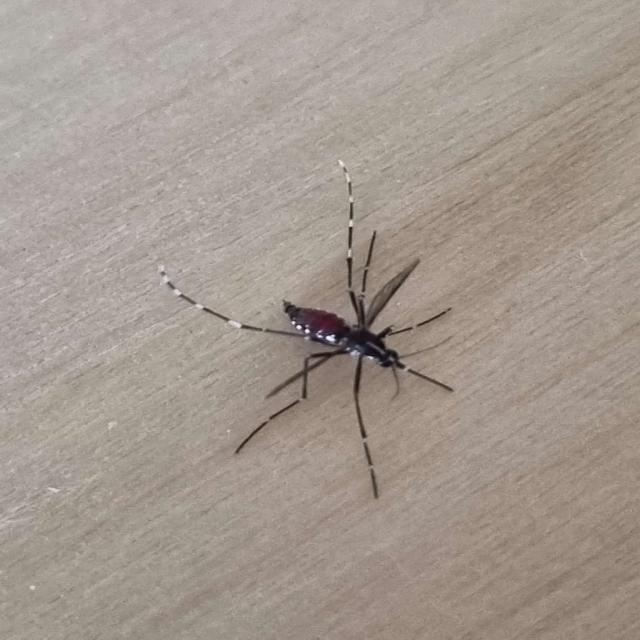albopictus: (151, 184, 471, 487)
